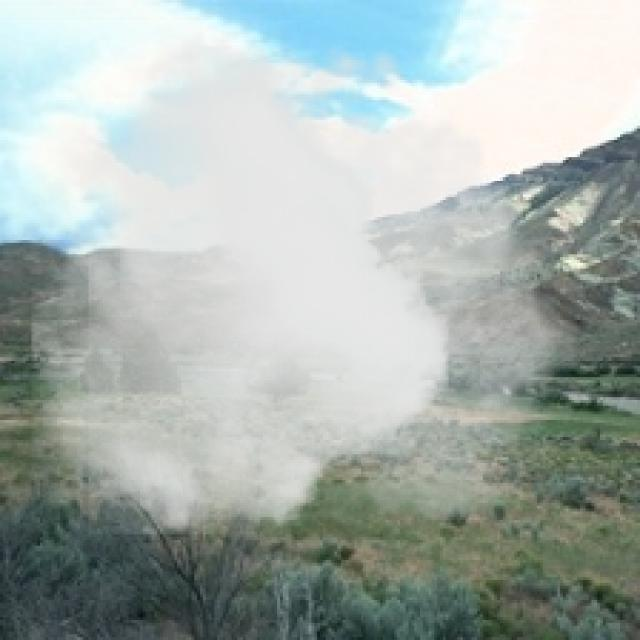Smoke: (31, 14, 598, 534)
